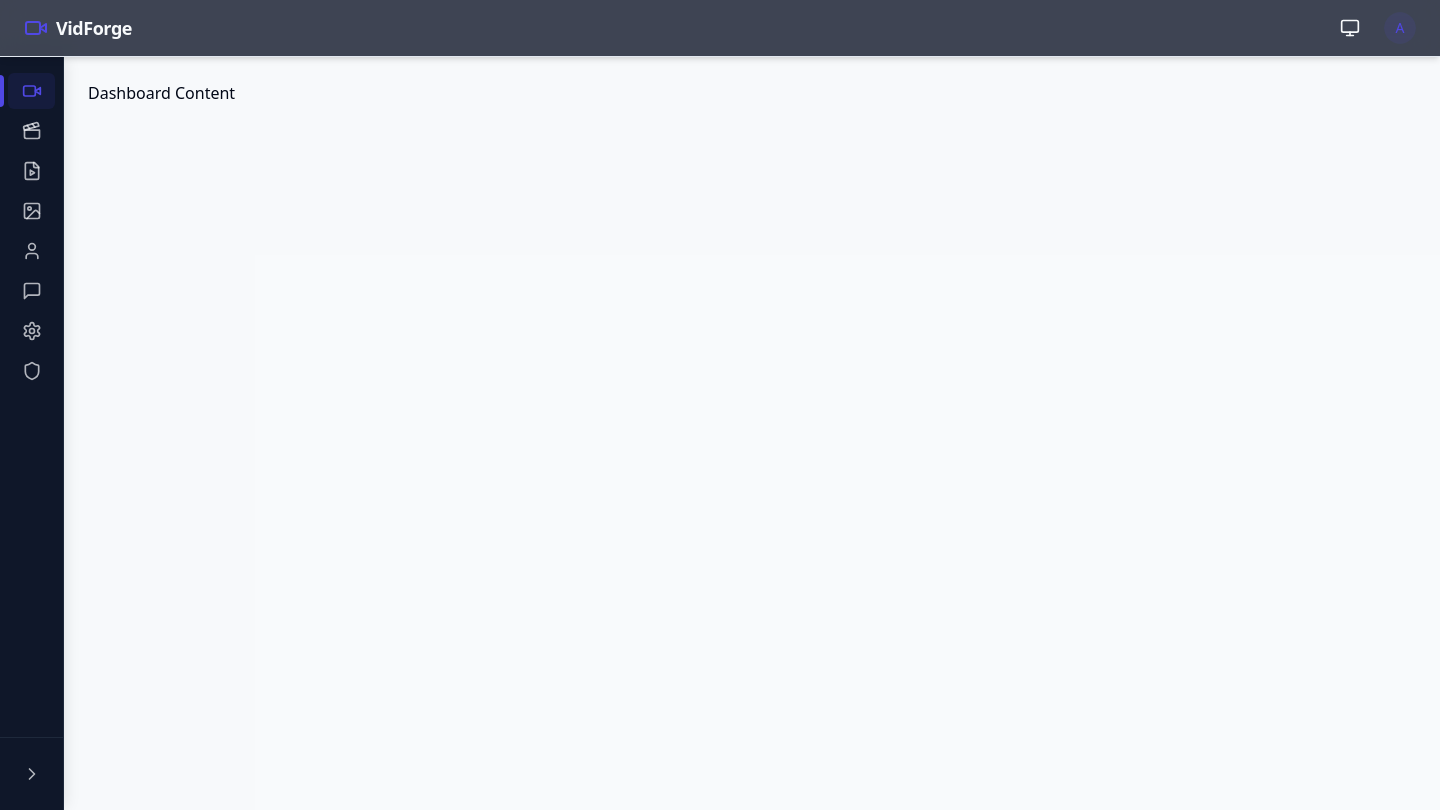
Layout Sidebar Submenu (collapsed desktop) › clicking Back restores the collapsed main menu without saving sidebar preference
Step 1. Click the button titled "Admin" → click(32, 371), box [8,353,55,389]
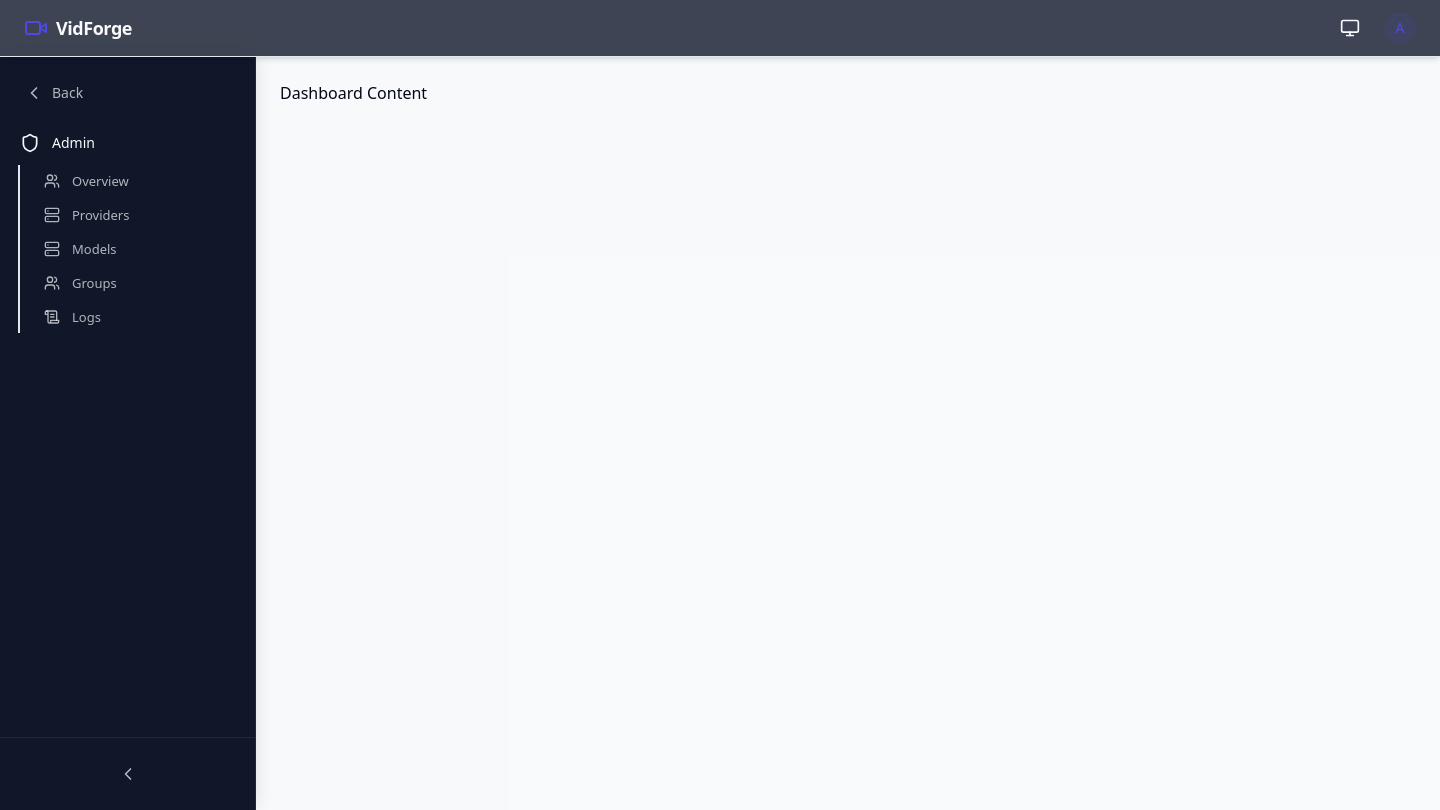
Step 2. Click the button "Back" → click(128, 93), box [8,73,247,113]
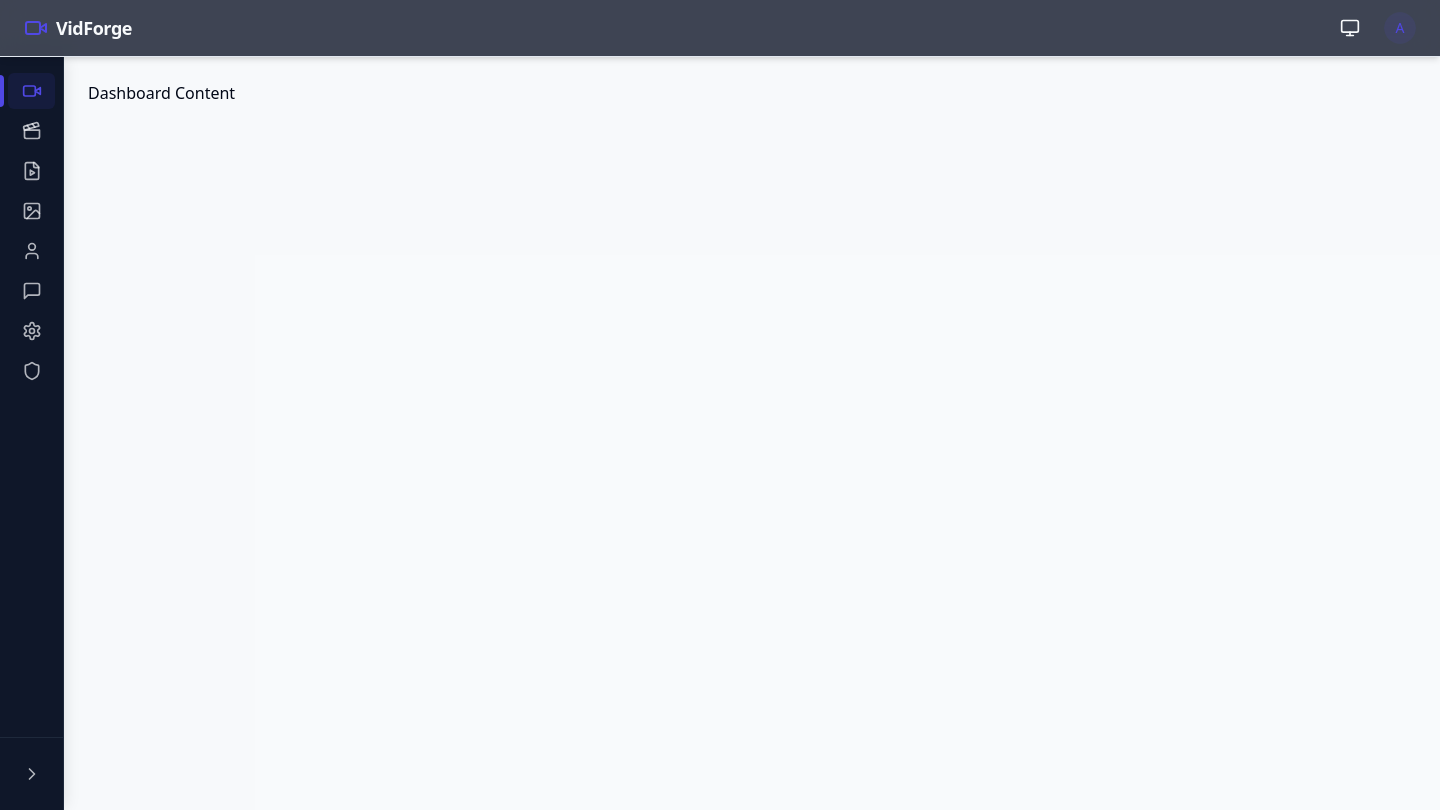
Now the button "Back" is gone
Now the link "Overview" is gone
